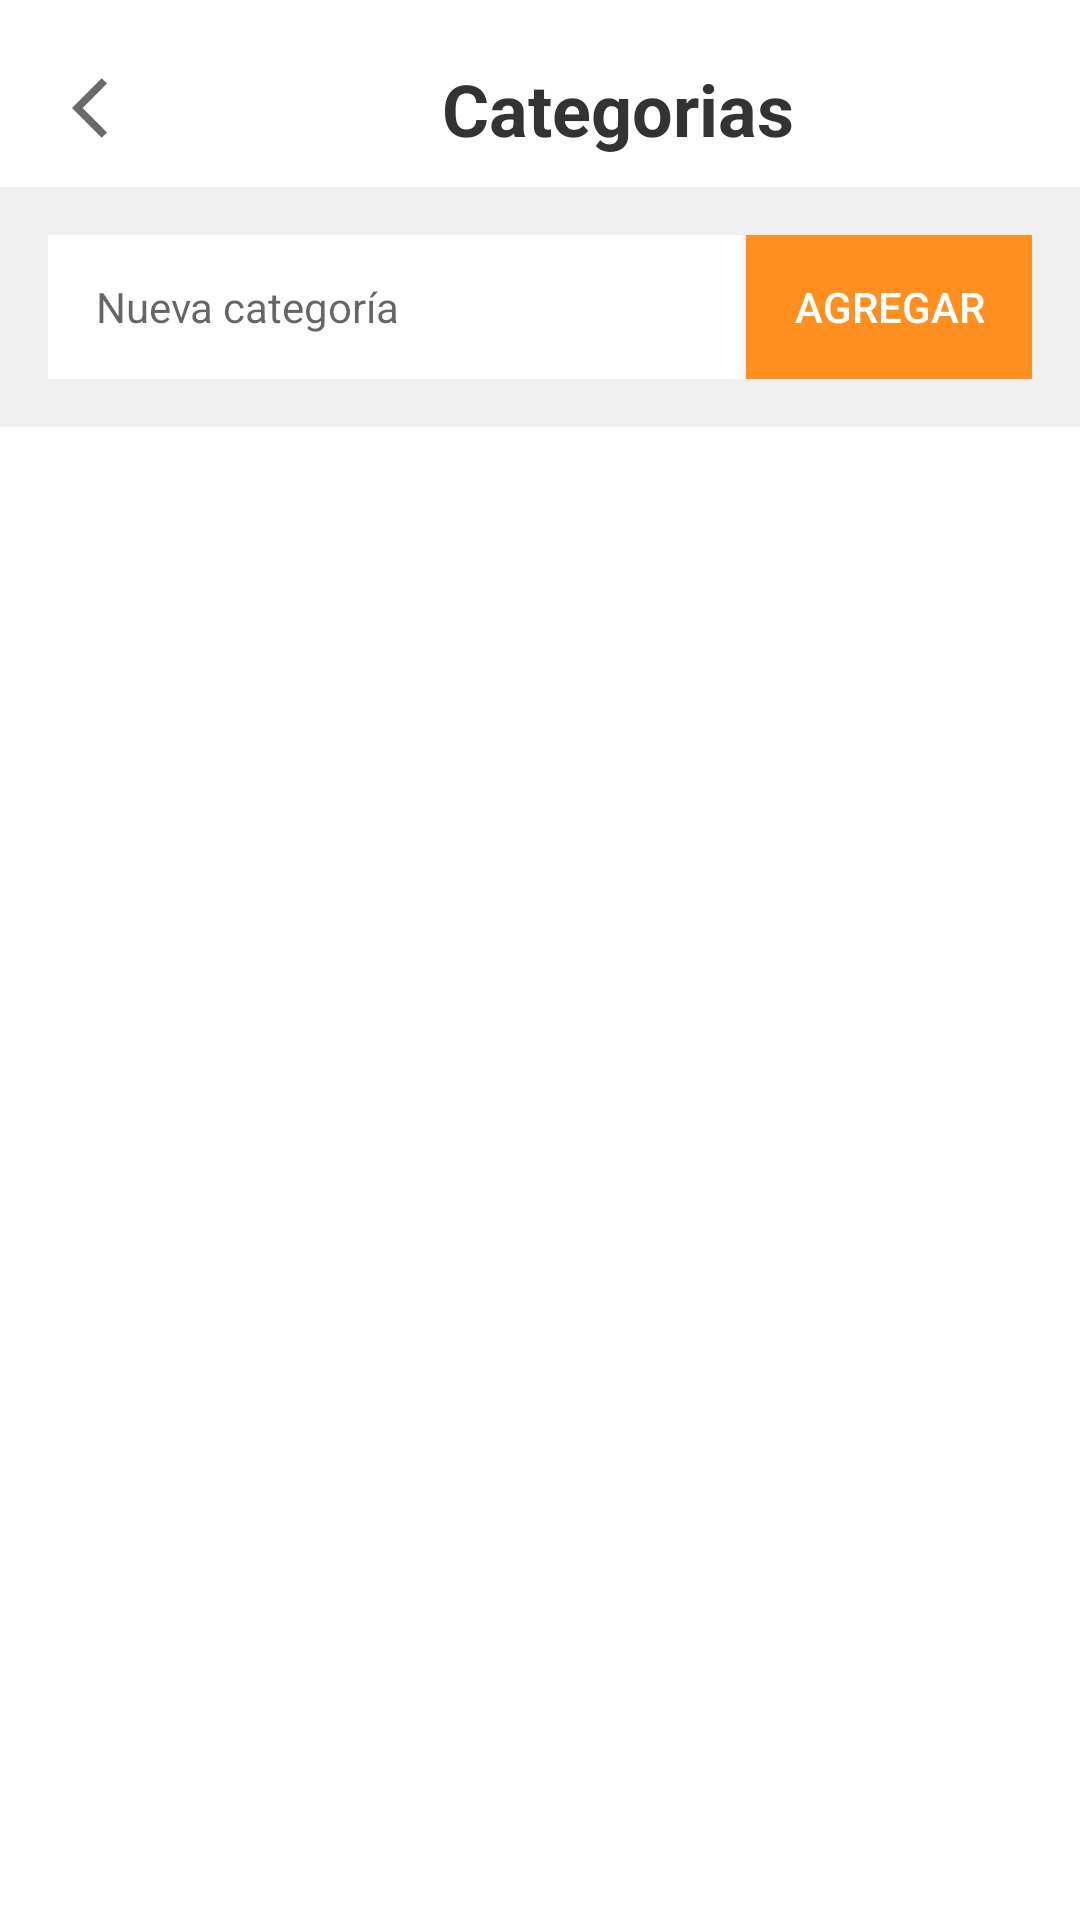

Where icons sit on this 1080×1920 app screen, as (x1, y1, x2, y2):
Atras: (72, 78, 107, 138)
